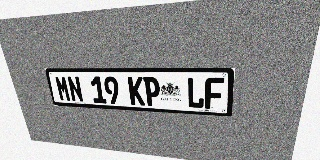1: (89, 76, 107, 103)
9: (103, 76, 121, 104)
F: (205, 77, 224, 110)
K: (128, 77, 145, 105)
L: (187, 77, 205, 109)
M: (54, 76, 72, 102)
N: (66, 76, 84, 102)
P: (143, 77, 161, 106)
